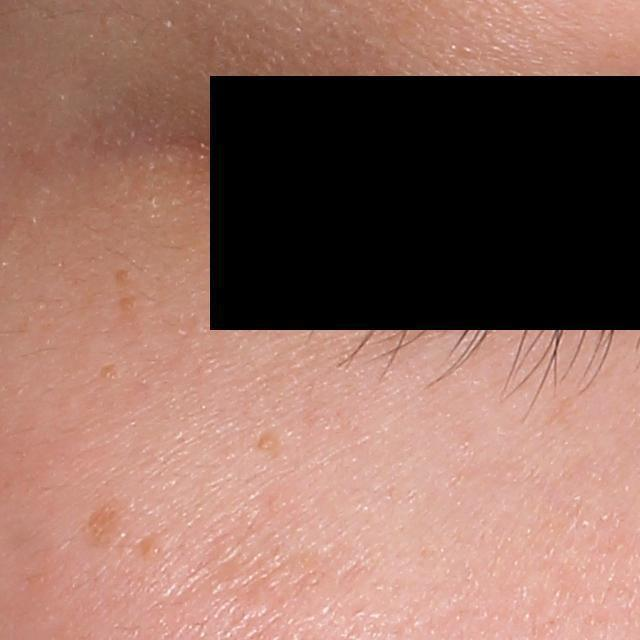melasma: (84, 495, 130, 550), (255, 428, 286, 460), (116, 294, 141, 321), (108, 268, 133, 287), (97, 364, 121, 381)
